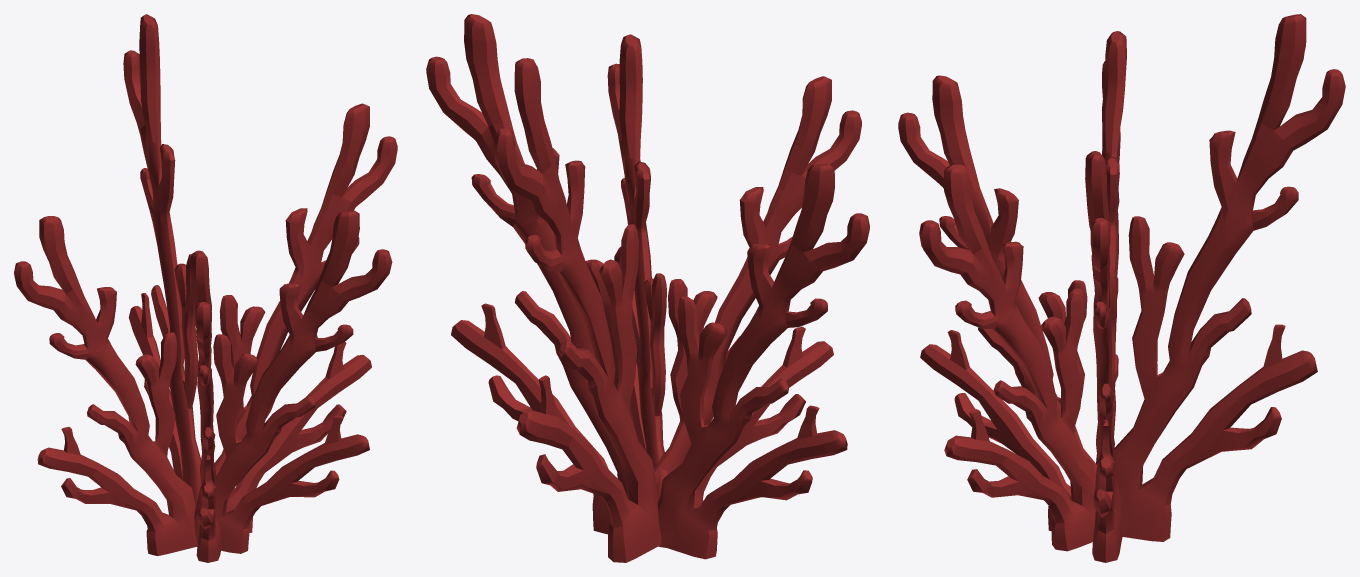
File: coral10.fbx
3 renders of one model, left to right at view 1: azimuth 30°, elevation 25°; view 2: azimuth 150°, elevation 25°; view 3: azimuth 270°, elevation 25°, orthographic. The views are drawn at different scales.
Visible parts, largest first — view 1: pCylinder23; view 2: pCylinder23; view 3: pCylinder23.
Part boxes in pixels (<box>): pCylinder23: <box>14,14,397,562</box>; pCylinder23: <box>426,14,869,562</box>; pCylinder23: <box>898,14,1345,562</box>.
Size of the model in its own units: 110 by 127 by 96.21.
